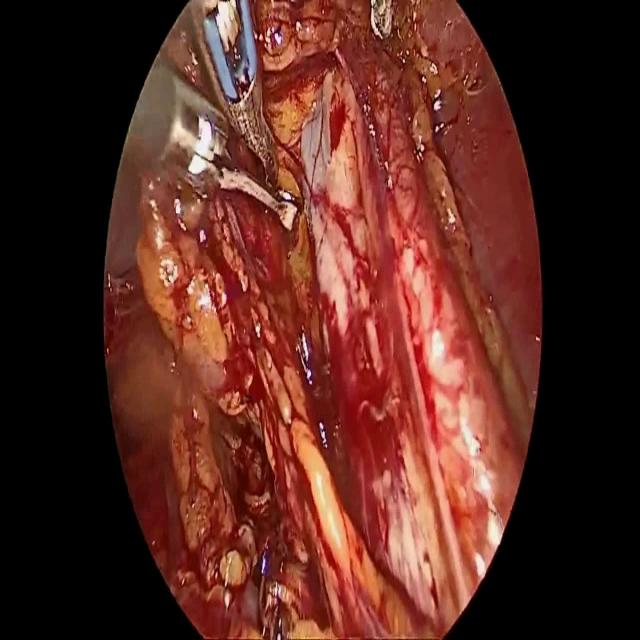surgical-area: (104, 0, 542, 639), (155, 2, 218, 108)
surgical-tool: (122, 0, 279, 188)
